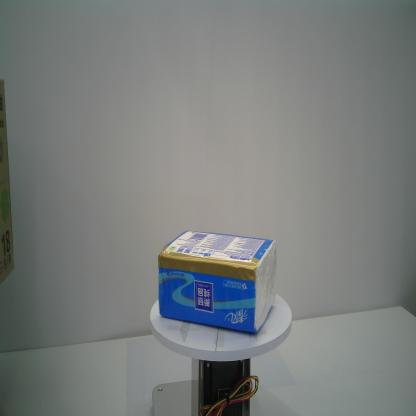Tissue: (155, 228, 278, 336)
